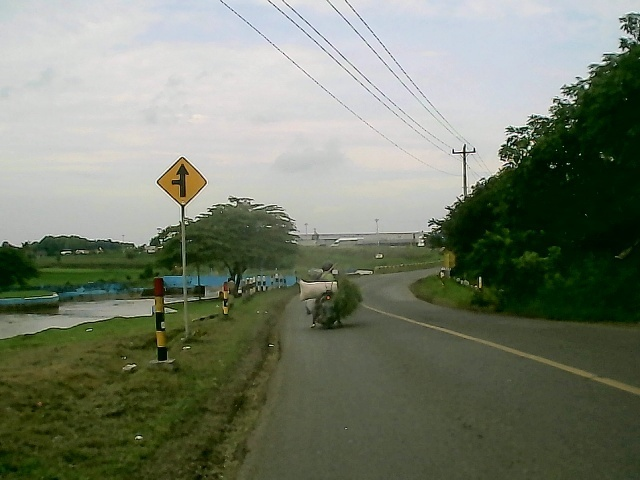Simpang kiri dengan prioritas: (154, 155, 210, 209)
